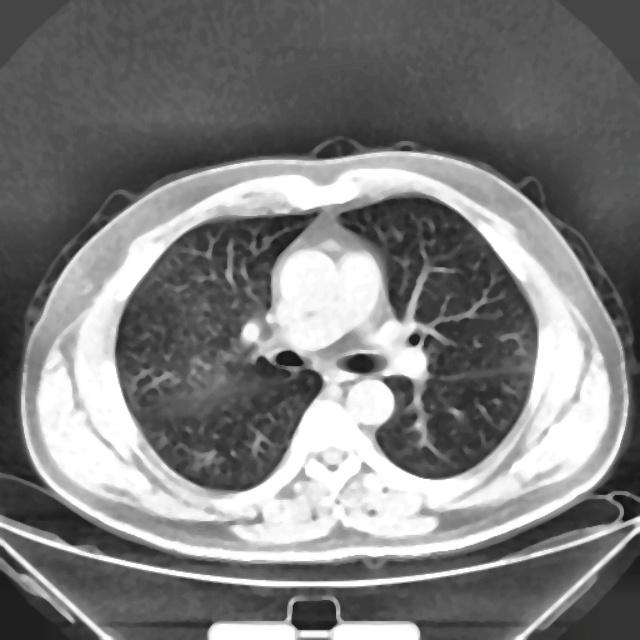covid: (19, 141, 632, 565)
